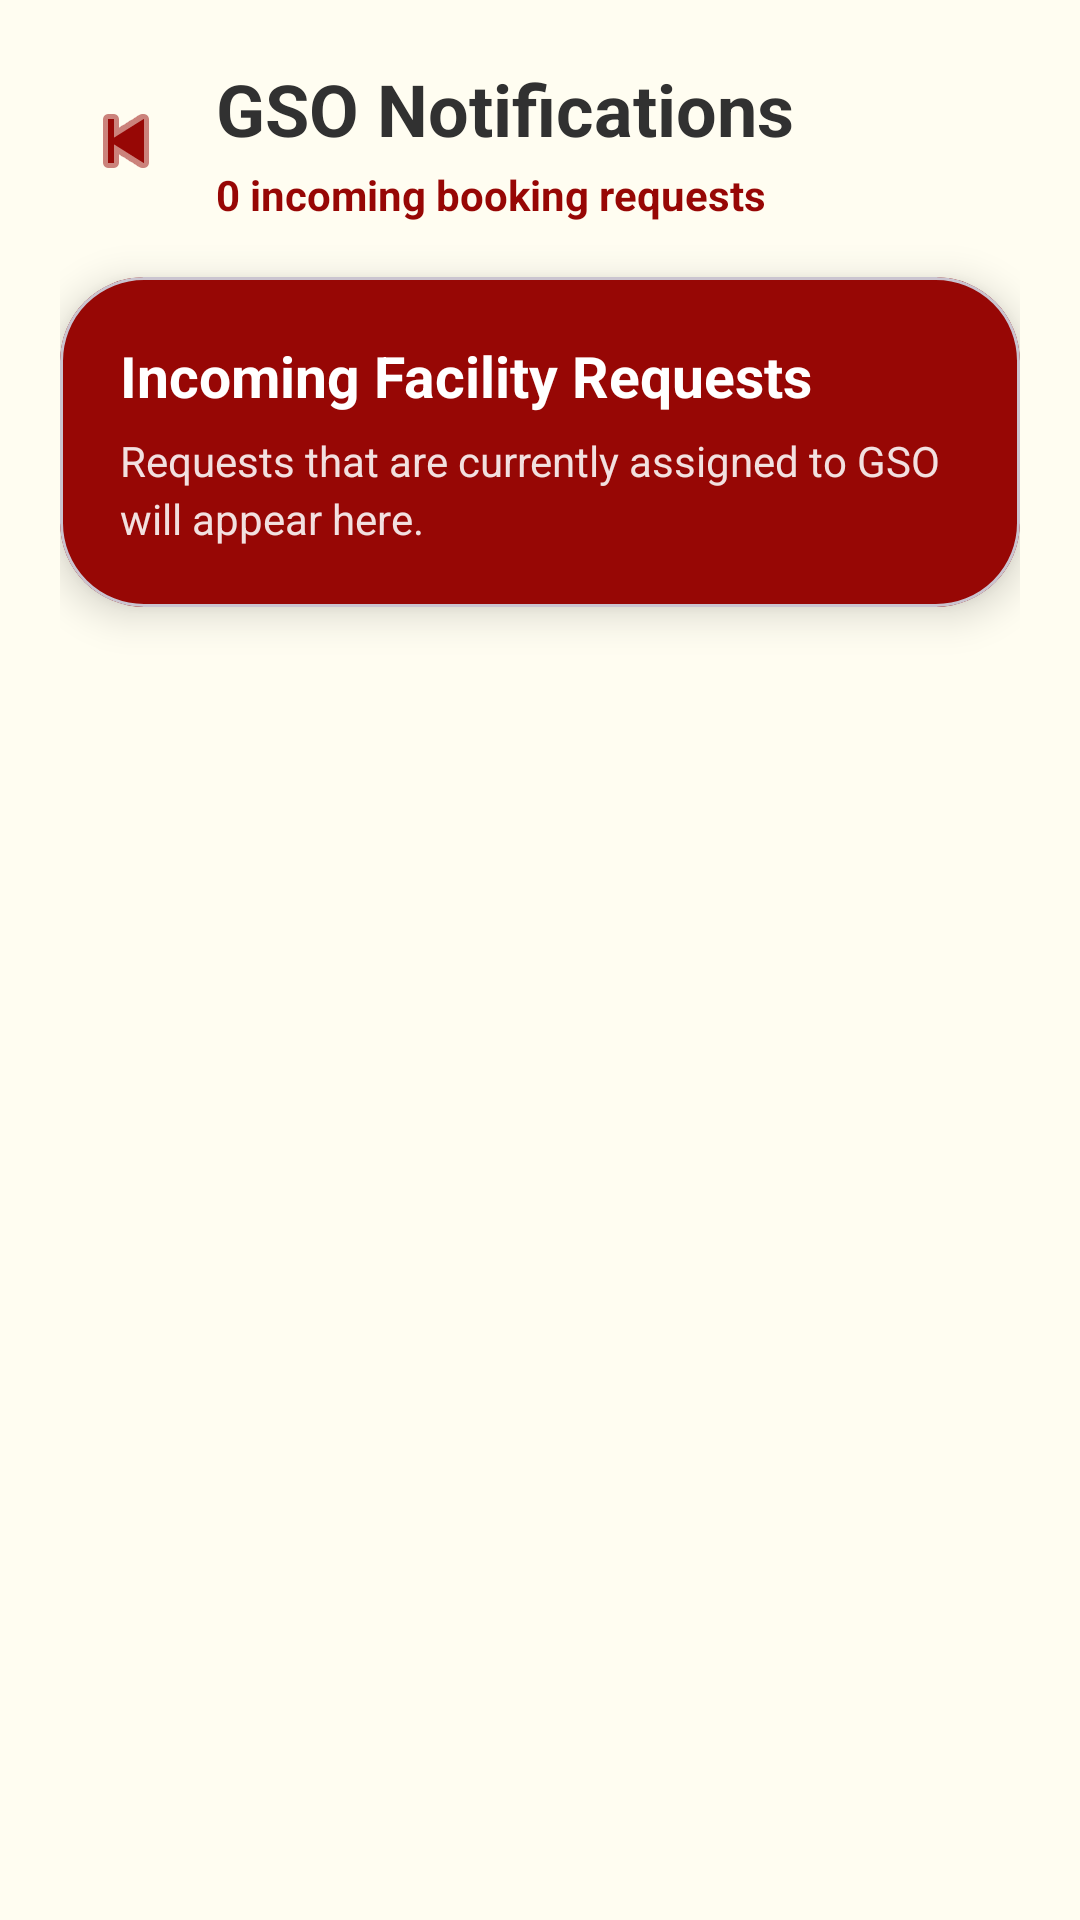

Icon click points for this 1080px×1920px phone screenshot, format point (x, y):
Back: point (126, 141)
